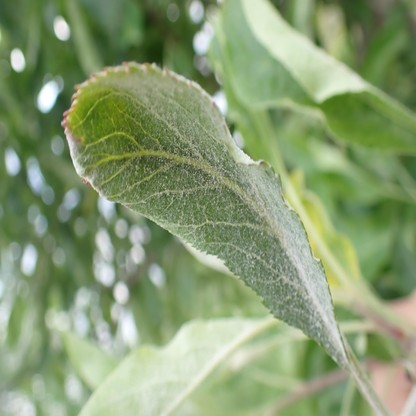powder: (61, 60, 349, 367)
